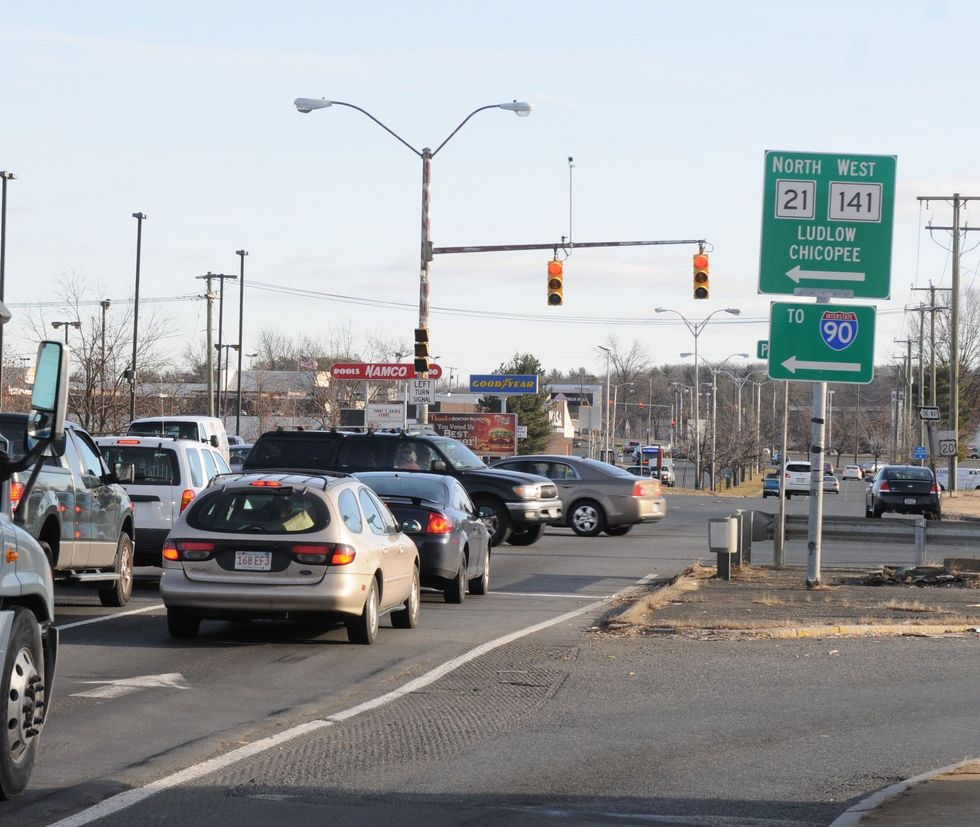traffic_light: (691, 251, 712, 302), (545, 259, 565, 308)
